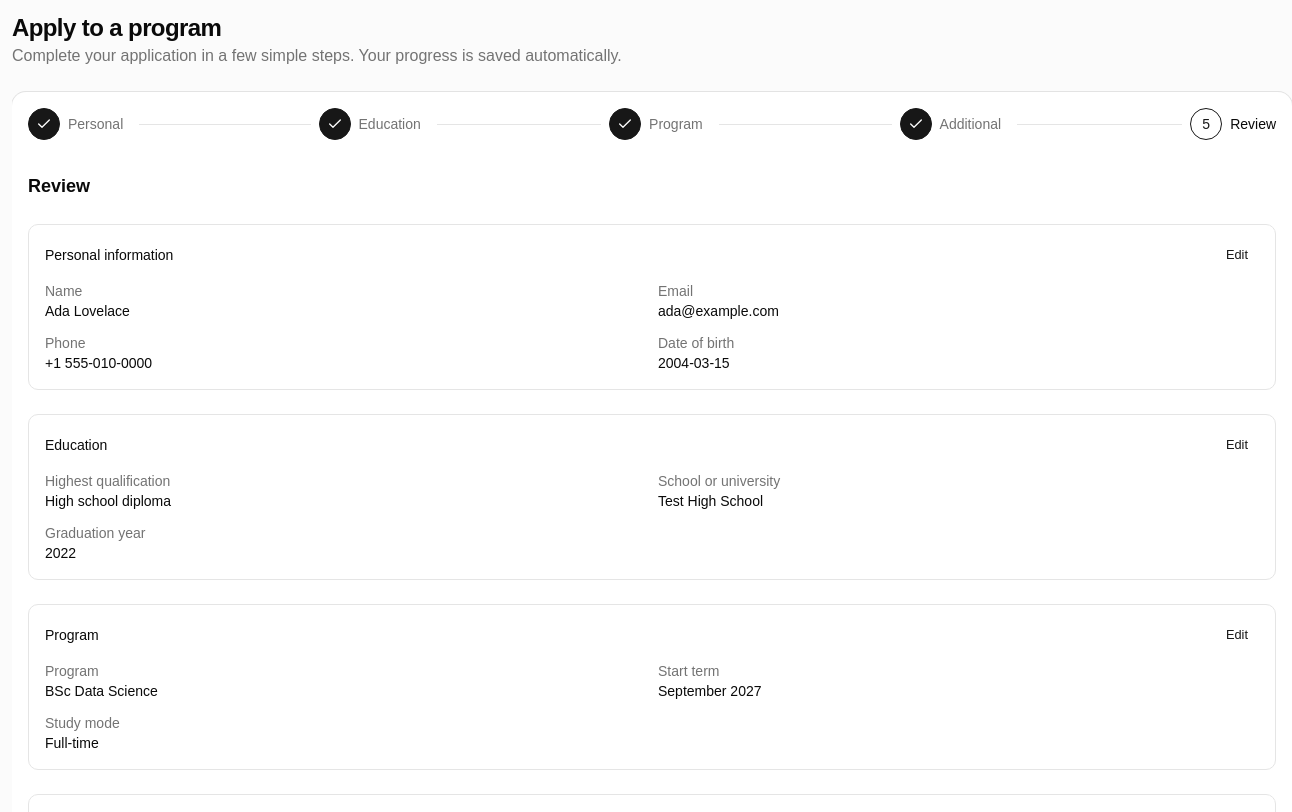
Test: ApplyPage › lets the student go back to a step from the review page
The image size is (1292, 812).
Expected: the text "Test High School" is shown, [658,493,763,509]
Step 1. Click the button with aria-label "Edit Education" → coordinates (1237, 445), box [1215,431,1259,459]
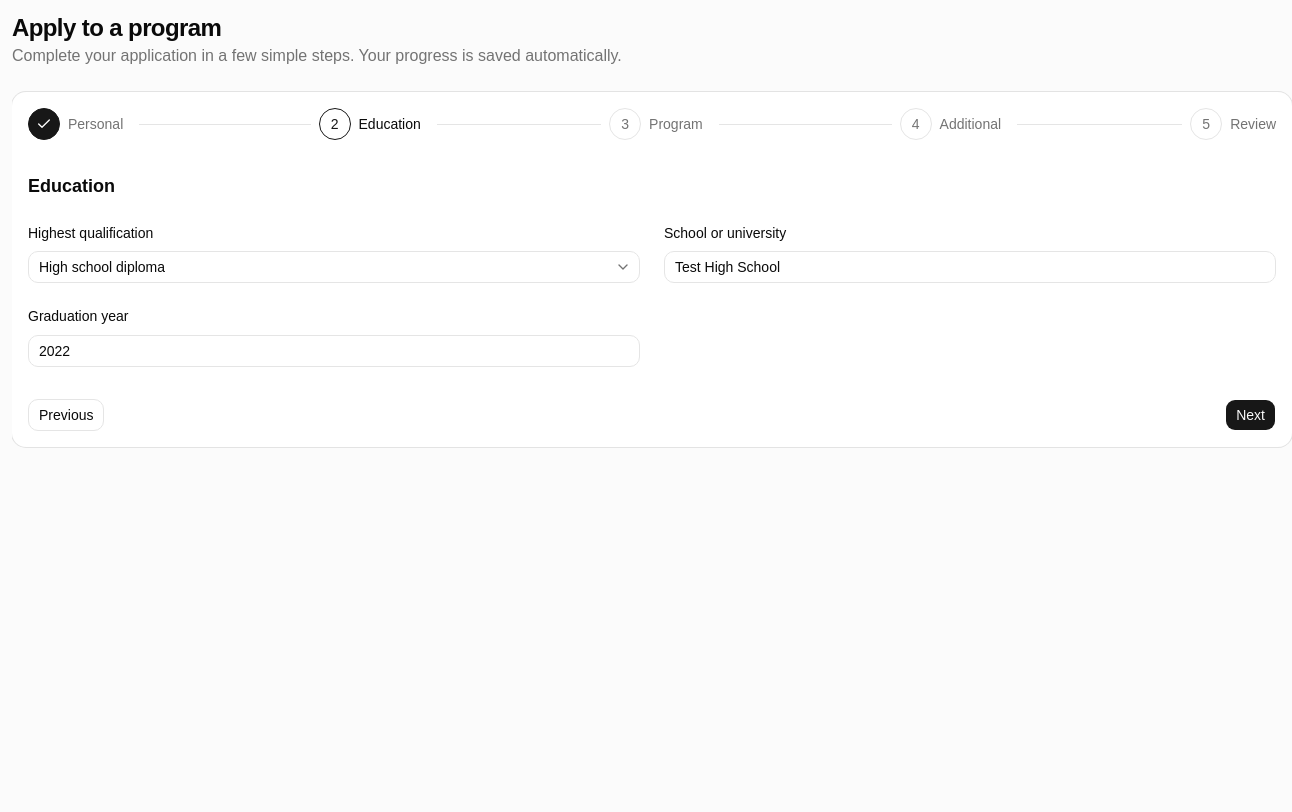
Result: the field labelled "Graduation year" holds "2022" at [28,334,640,366]
